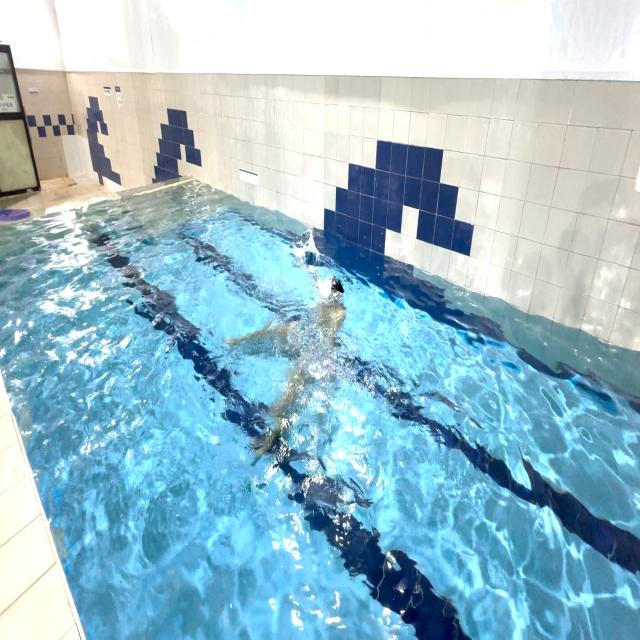Drowning: (234, 230, 376, 432)
